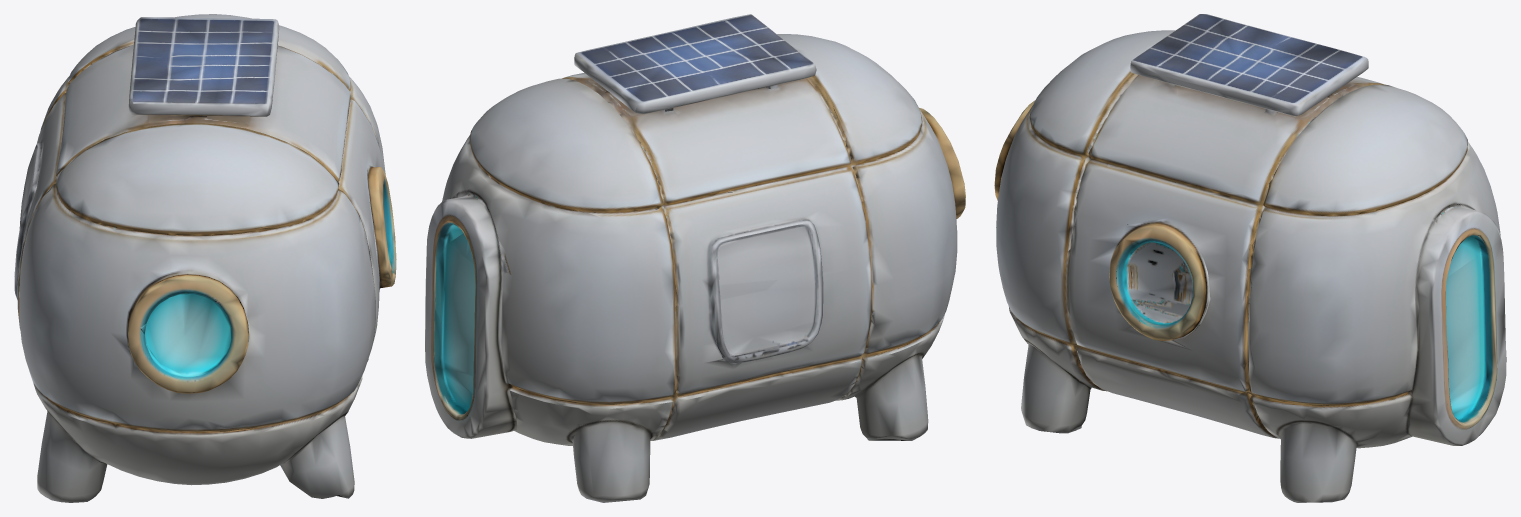
3 views of the same model, side by side, from view 1: azimuth 30°, elevation 25°; view 2: azimuth 150°, elevation 25°; view 3: azimuth 270°, elevation 25° (orthographic). The views are drawn at different scales.
Parts seen in each view (by area): view 1: repaired; view 2: repaired; view 3: repaired.
Boxes of the visible parts, x1,y1,x2,y2 form: repaired: (14, 14, 396, 502); repaired: (425, 14, 965, 502); repaired: (994, 14, 1506, 502).
Size of the model in its own units: 0.6318 by 0.534 by 0.6971.
Materials: 1 (1 with a texture image).
